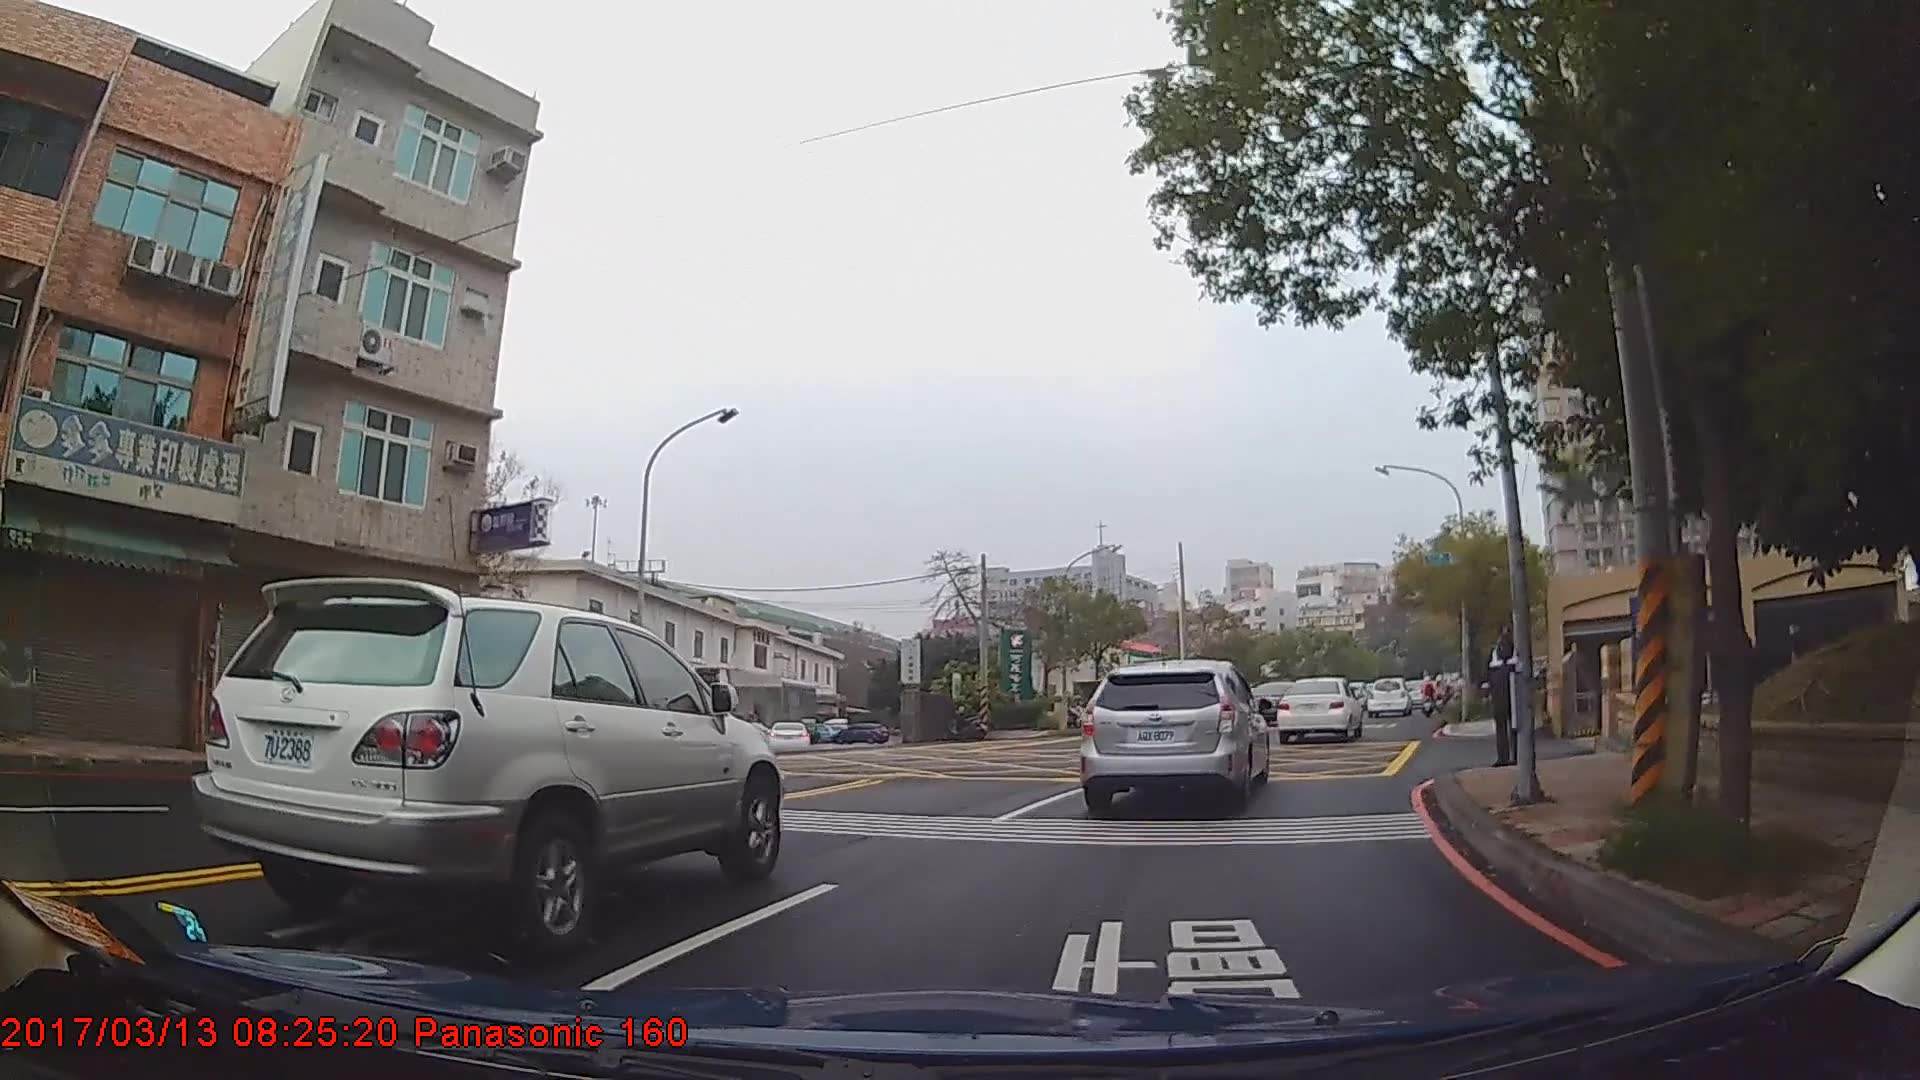pedestrian: (1483, 623, 1534, 768)
vehicle: (188, 571, 784, 949), (1077, 654, 1270, 821), (1273, 674, 1362, 739), (1364, 674, 1413, 717), (829, 719, 890, 741), (766, 720, 811, 749)
